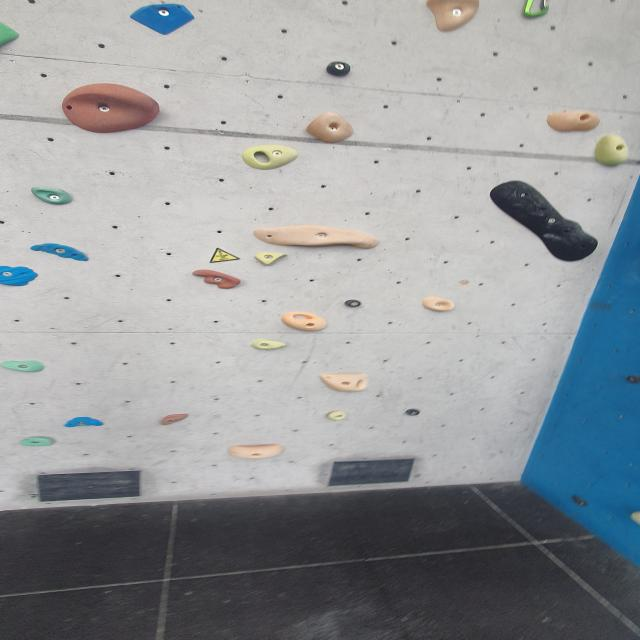Crimp: (128, 3, 197, 35), (188, 269, 243, 289), (226, 444, 285, 462), (28, 245, 90, 259), (0, 358, 53, 374), (147, 412, 197, 428), (0, 267, 39, 287), (250, 338, 290, 352), (326, 63, 356, 78), (65, 418, 106, 428), (18, 436, 57, 446), (326, 412, 352, 422)
Jug: (485, 182, 609, 266), (251, 226, 384, 253), (422, 0, 486, 33), (306, 112, 362, 144), (544, 109, 603, 135), (27, 184, 80, 208), (422, 294, 461, 314)
Pinch: (594, 132, 633, 168)
Pocket: (241, 142, 303, 171), (280, 310, 338, 334), (318, 373, 373, 394)
Sloper: (64, 88, 166, 136), (0, 20, 21, 53)
